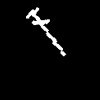double_crochet: (26, 8, 65, 55)
